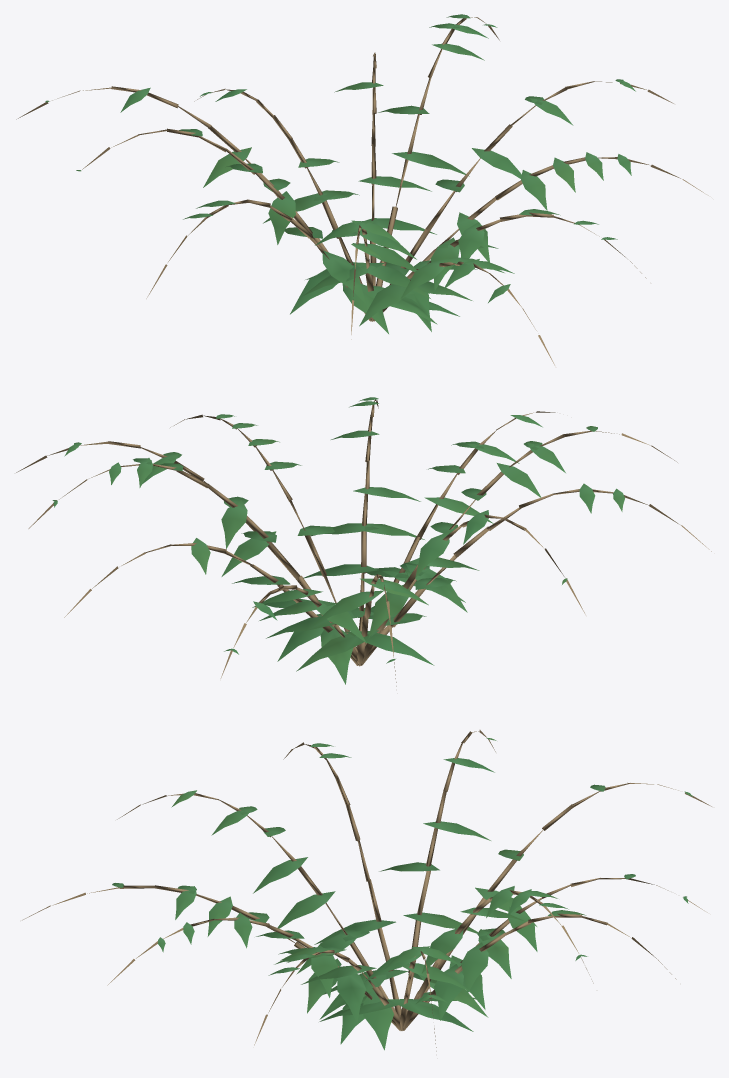
The model's file is fern_giant_LOD1.glb.
The picture shows the model from 3 angles, top to bottom: view 1: azimuth 30°, elevation 25°; view 2: azimuth 150°, elevation 25°; view 3: azimuth 270°, elevation 25°; orthographic projection. The views are drawn at different scales.
Parts seen in each view (by area): view 1: fern_giant_LOD1; view 2: fern_giant_LOD1; view 3: fern_giant_LOD1.
Boxes of the visible parts, bbox=[...] form: fern_giant_LOD1: bbox=[16, 14, 708, 365]; fern_giant_LOD1: bbox=[16, 397, 711, 686]; fern_giant_LOD1: bbox=[22, 730, 711, 1051].
Bounding box in the file's own units: 4.2 × 1.4 × 4.28.
